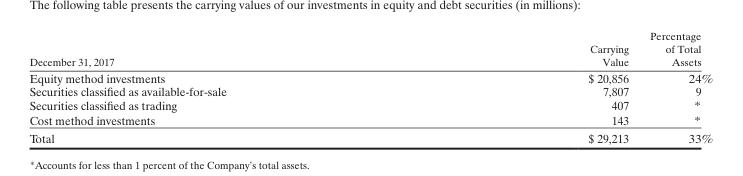table: (28, 29, 712, 144)
table column: (28, 29, 406, 144), (406, 29, 638, 144), (638, 29, 712, 144)
table column header: (28, 29, 712, 69)
table row: (28, 29, 712, 69), (28, 112, 712, 128), (28, 128, 712, 144), (28, 69, 712, 84), (28, 84, 712, 98), (28, 98, 712, 112)
